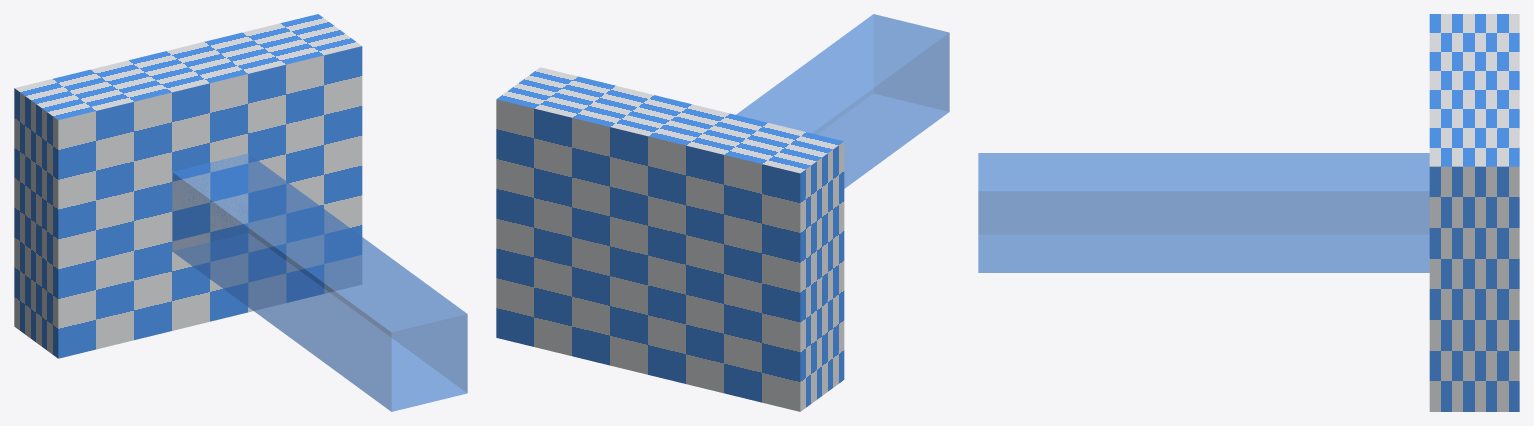
3 views of the same model, side by side, from view 1: azimuth 30°, elevation 25°; view 2: azimuth 150°, elevation 25°; view 3: azimuth 270°, elevation 25° (orthographic). The views are drawn at different scales.
Visible parts, largest first — view 1: Base, Post; view 2: Base, Post; view 3: Post, Base.
Part boxes in pixels (x1,y1,x2,y2): Base: (14, 14, 362, 358); Post: (172, 153, 467, 411); Base: (496, 67, 844, 411); Post: (736, 14, 949, 188); Post: (978, 153, 1429, 272); Base: (1429, 14, 1519, 411).
Size of the model in its own units: 40 by 30 by 60.
Materials: 2 (1 with a texture image).
